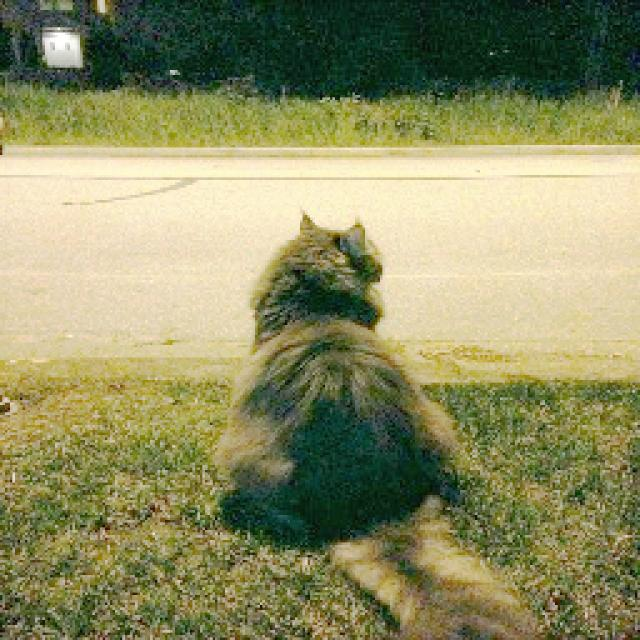cat: (215, 196, 528, 640)
